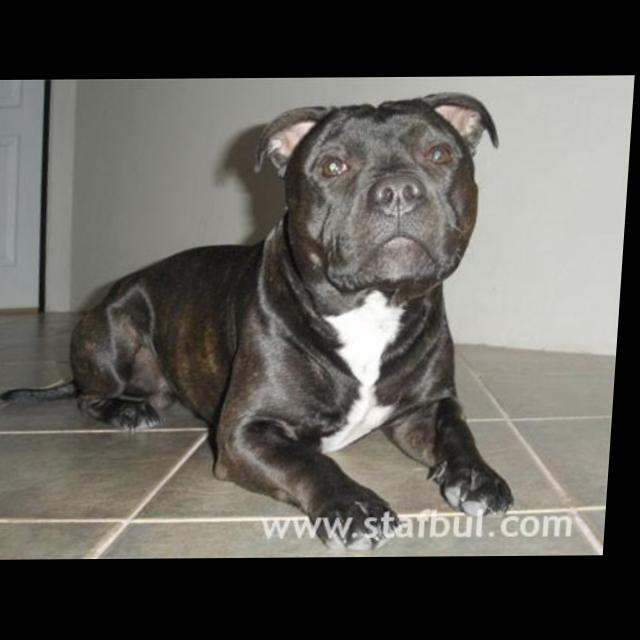staffford: (1, 91, 544, 554)
